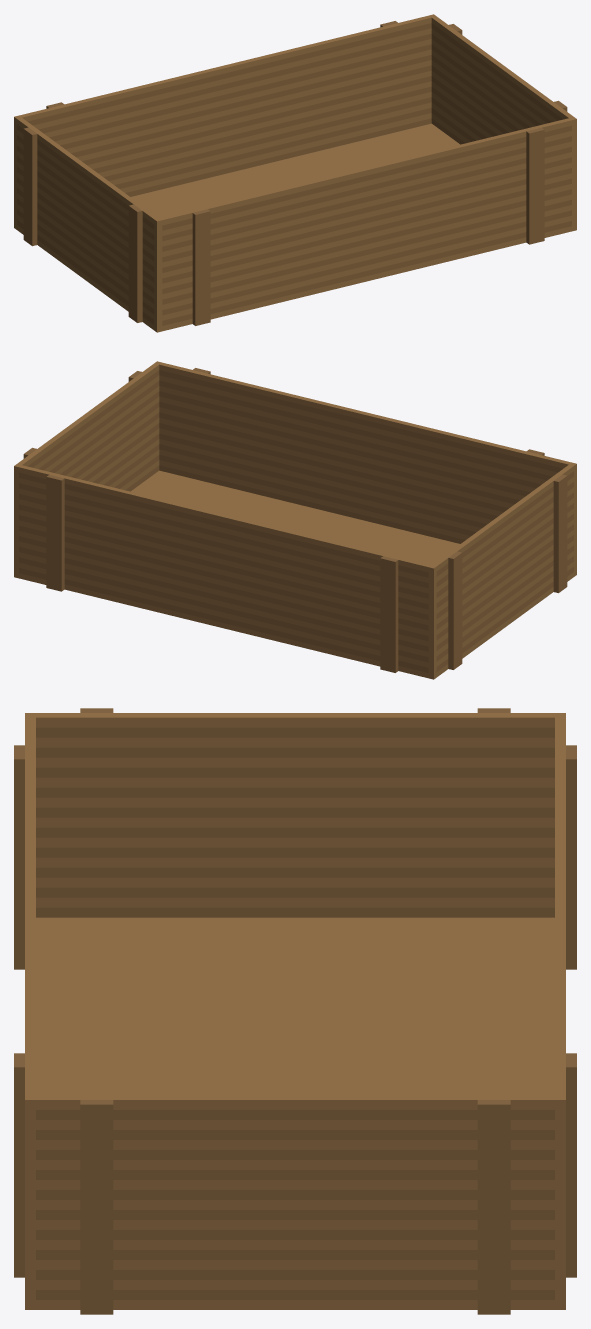
The model's file is BOX_for_DRON-1.obj.
The picture shows the model from 3 angles, top to bottom: view 1: azimuth 30°, elevation 25°; view 2: azimuth 150°, elevation 25°; view 3: azimuth 270°, elevation 25°; orthographic projection. The views are drawn at different scales.
Size of the model in its own units: 8.5 by 2.1 by 5.1.
1 material, 1 textured.
